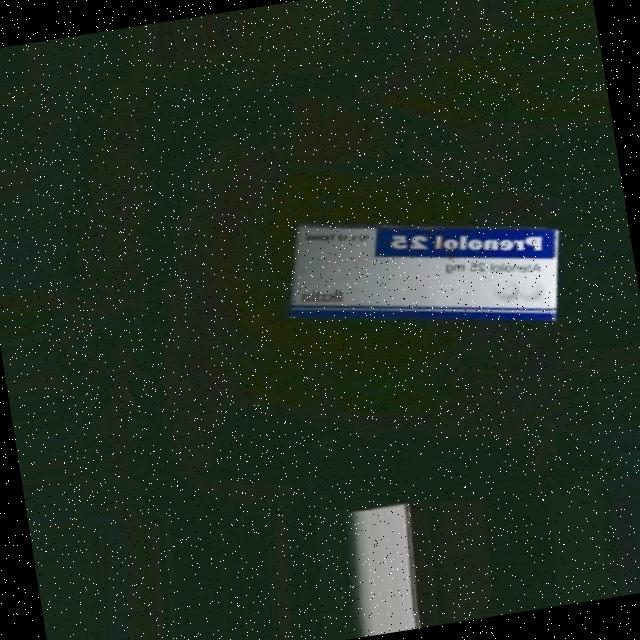prenolol: (276, 186, 575, 361)
